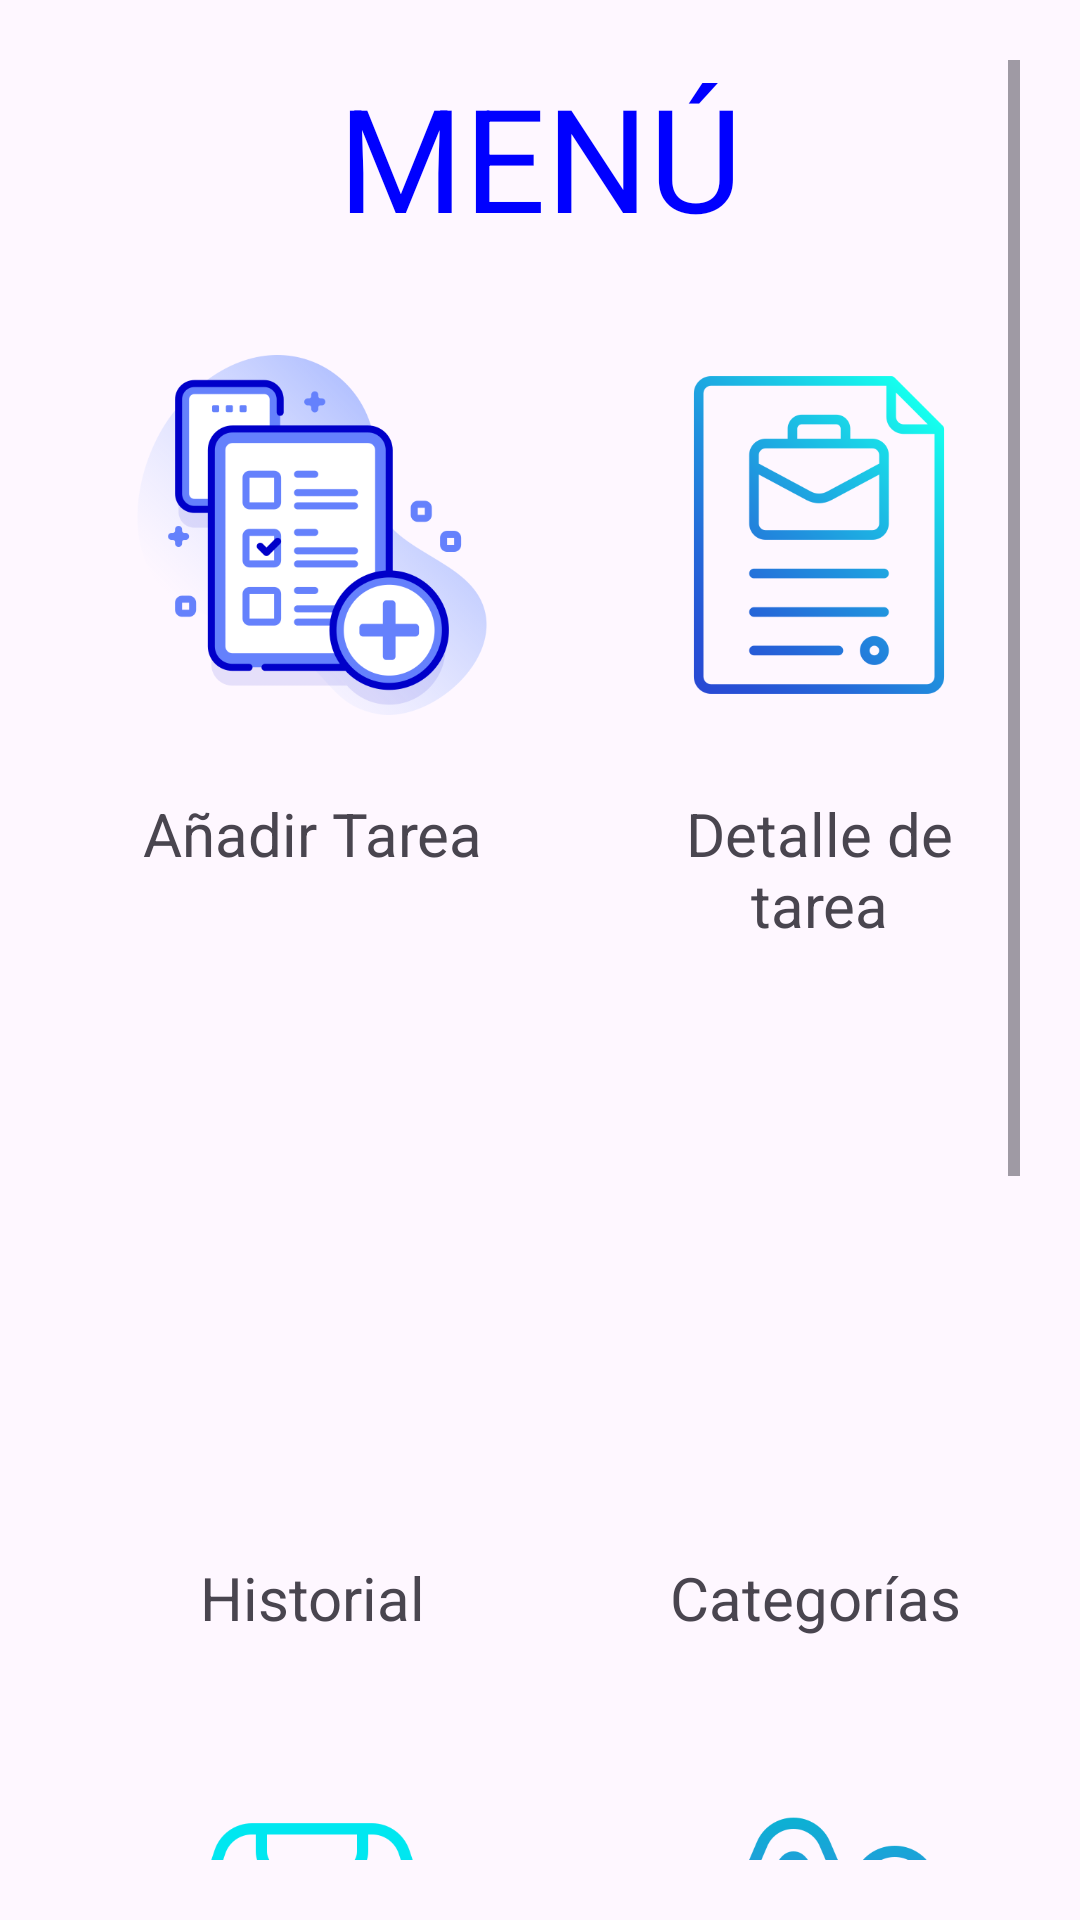

Named icons in this screenshot (1080×1920) and their centers, (x,y):
descripcion: (819,535)
